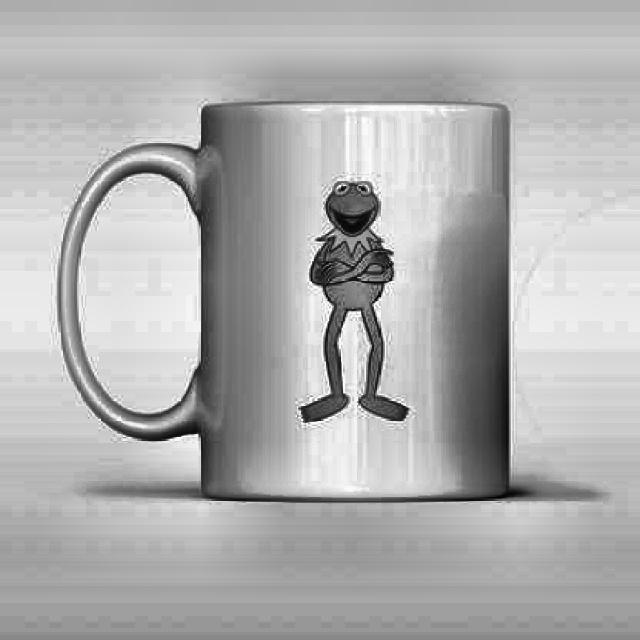Mug: (58, 100, 510, 500)
